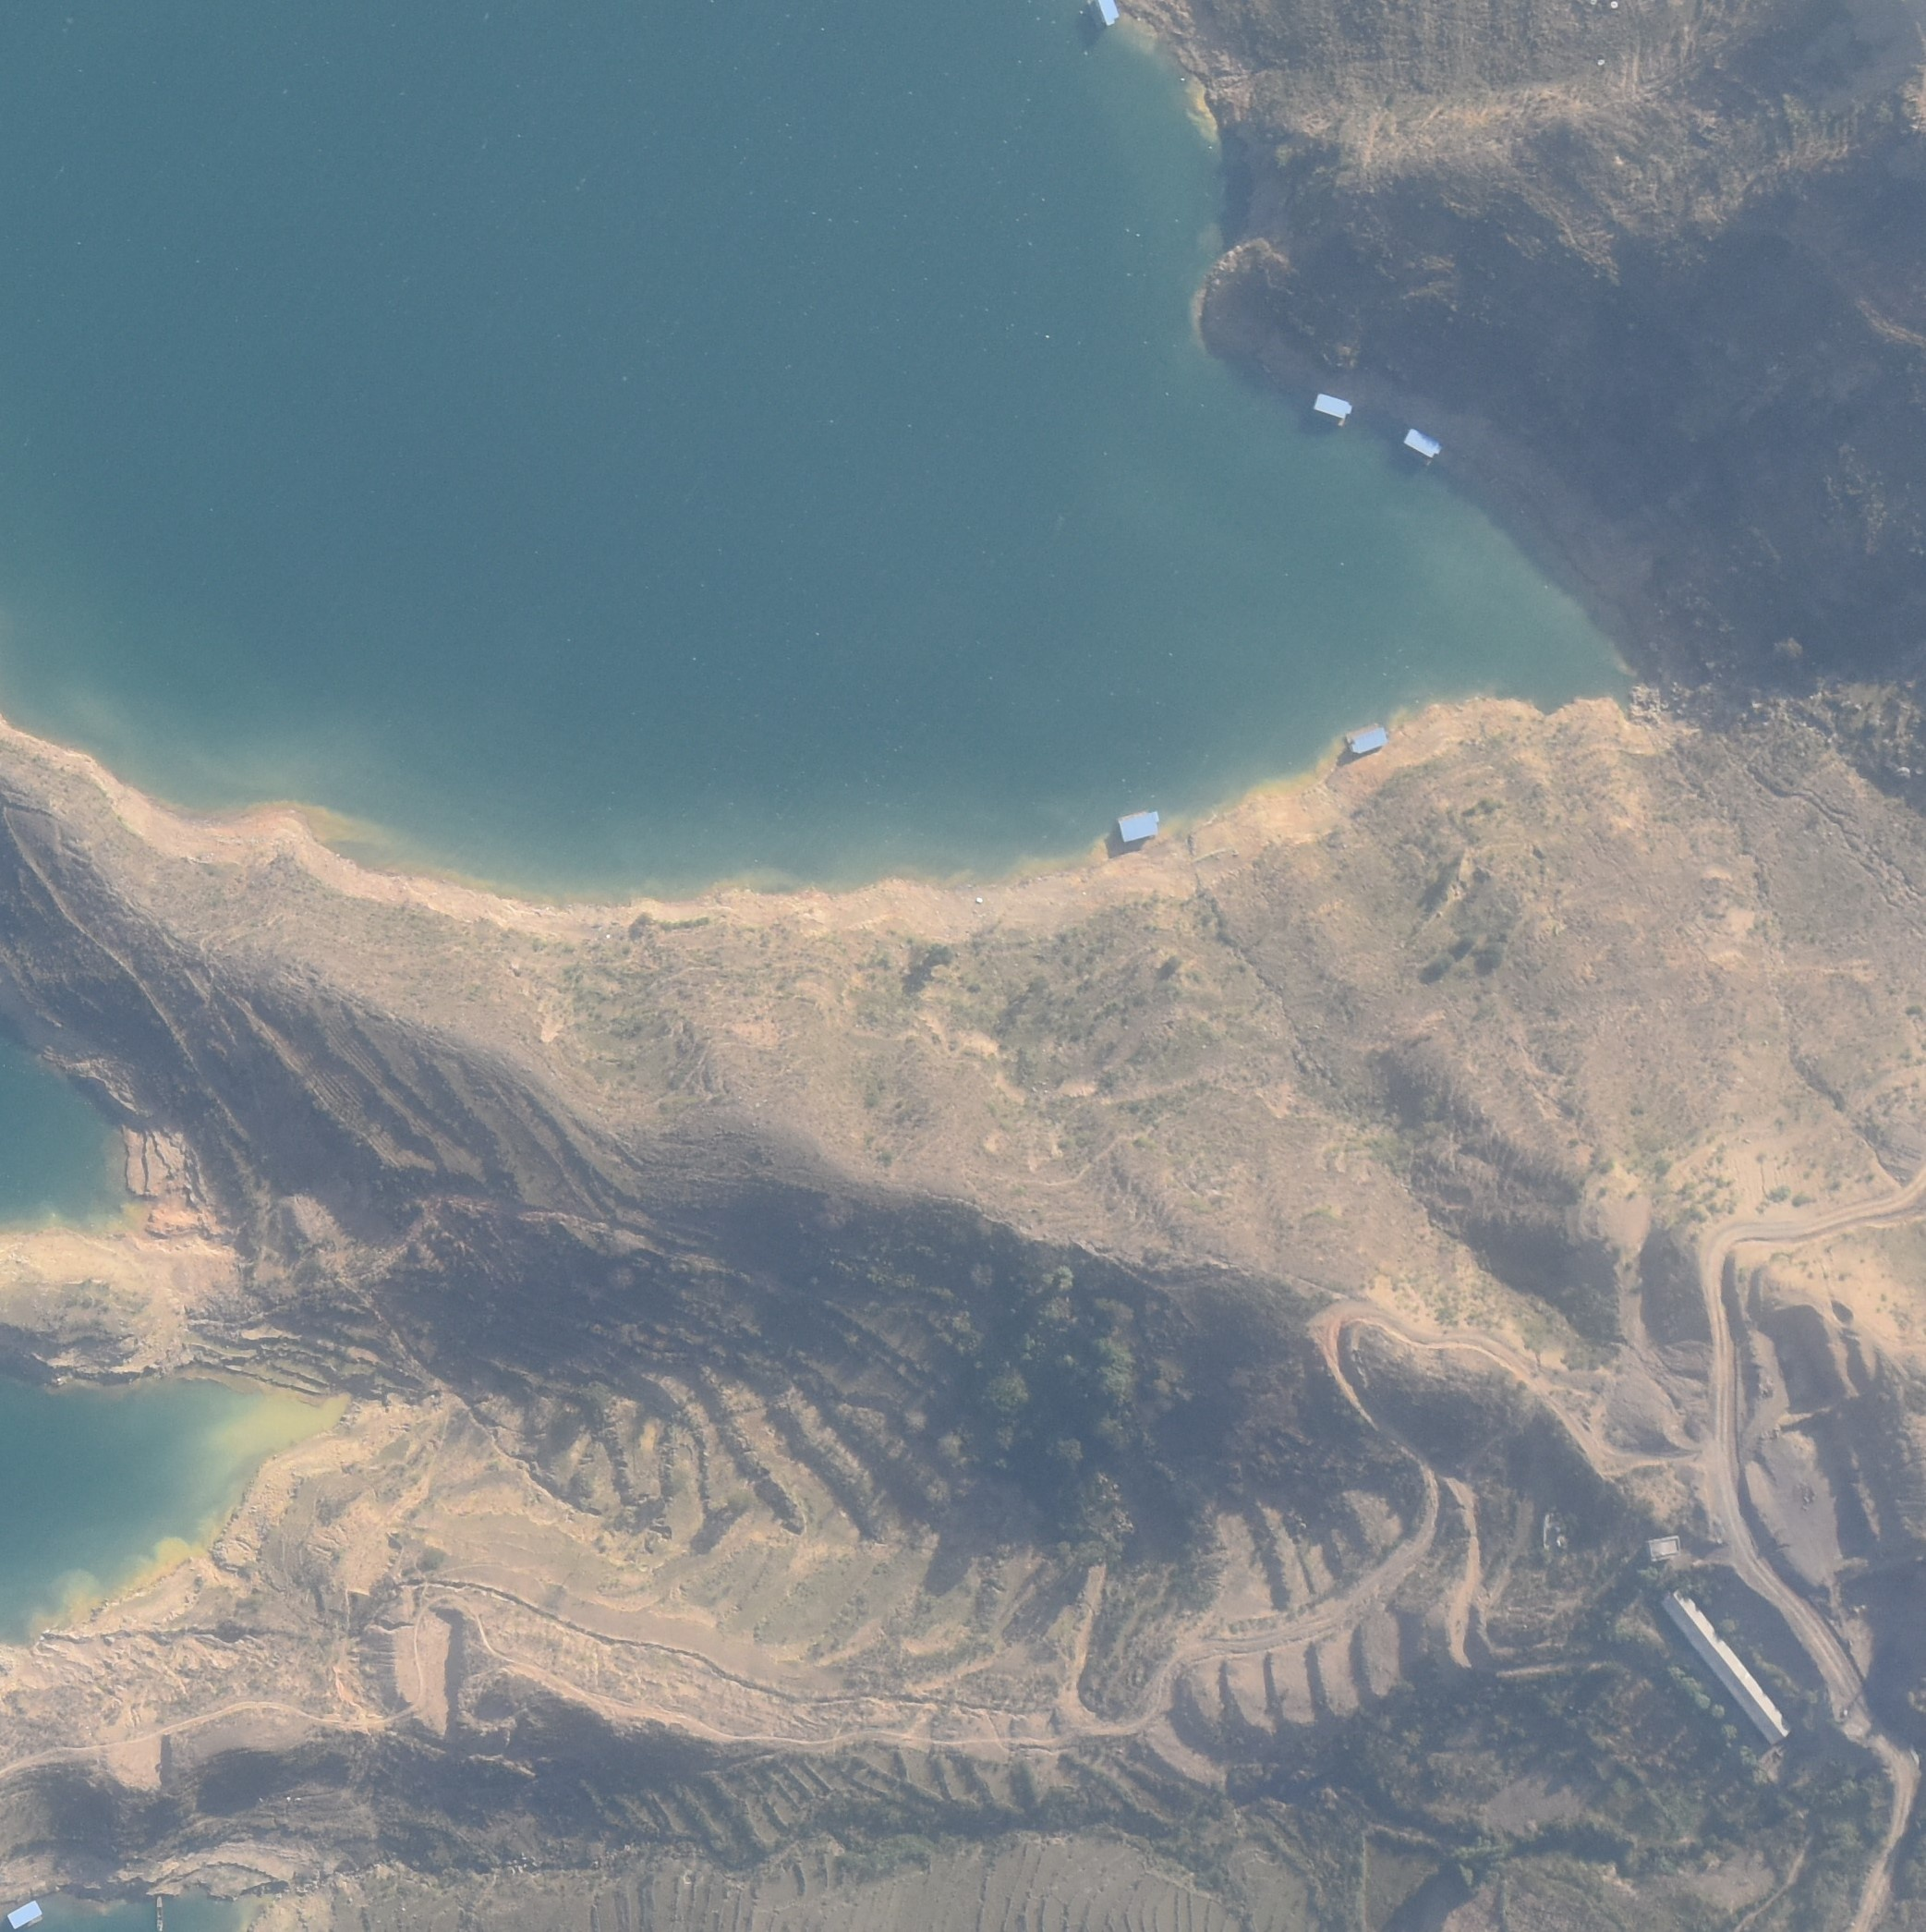building: (1663, 1588, 1792, 1747), (1647, 1535, 1679, 1560)
prefabricated-house: (1404, 427, 1443, 462), (1310, 392, 1351, 425), (1118, 812, 1162, 842), (7, 1898, 44, 1928), (1347, 727, 1386, 750)
ship: (157, 1897, 164, 1927)
